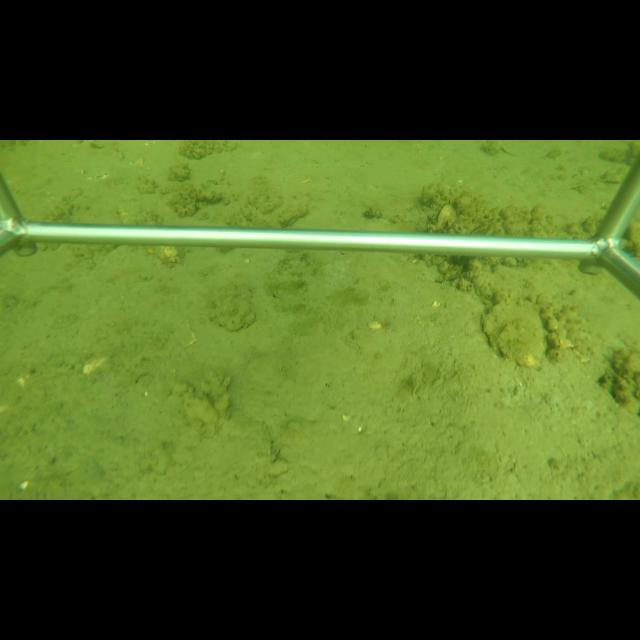Oyster-Closed: (482, 298, 548, 370)
Oyster-Open: (434, 200, 454, 226)
